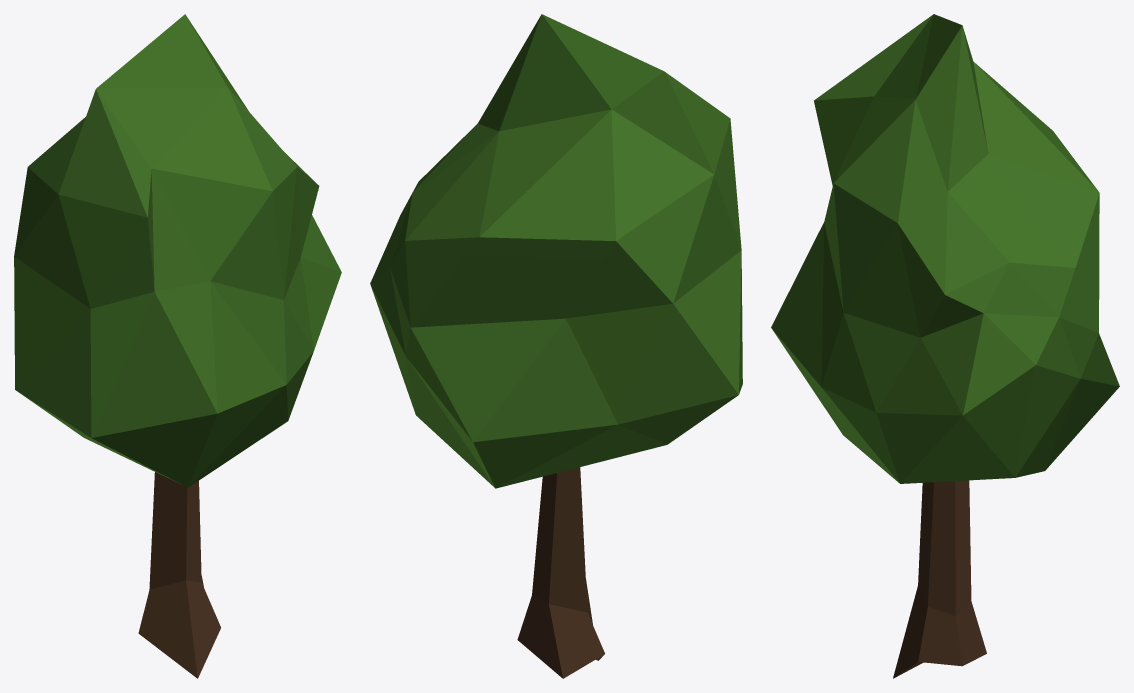
Rendered from tree-old.fbx.
3 views of the same model, side by side, from view 1: azimuth 30°, elevation 25°; view 2: azimuth 150°, elevation 25°; view 3: azimuth 270°, elevation 25° (orthographic). The views are drawn at different scales.
Parts seen in each view (by area): view 1: tree-old; view 2: tree-old; view 3: tree-old.
Boxes of the visible parts, x1,y1,x2,y2 form: tree-old: (14, 14, 341, 678); tree-old: (370, 14, 742, 678); tree-old: (771, 14, 1119, 678).
Bounding box in the file's own units: 3.15 × 5.69 × 2.71.
